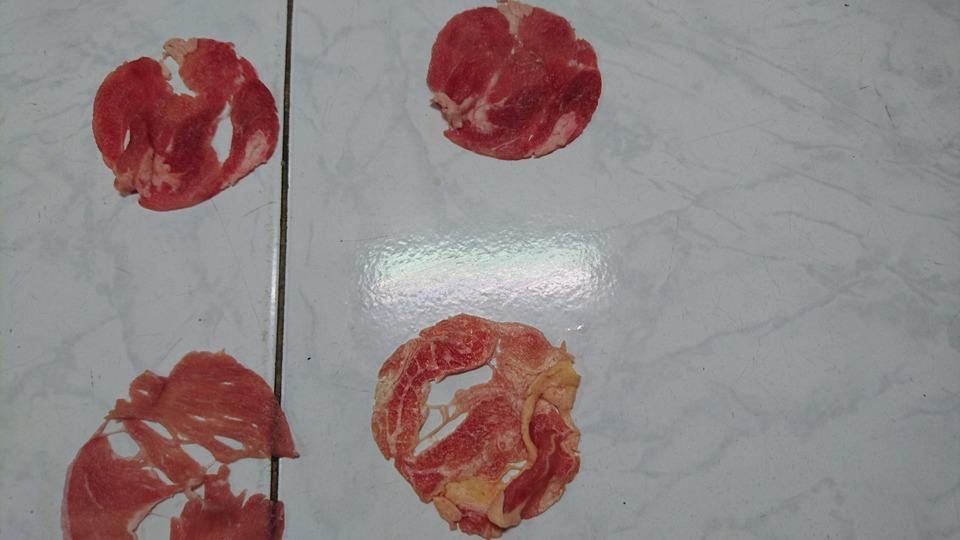restructured meat: (51, 355, 316, 535), (366, 313, 593, 521), (94, 54, 292, 211), (426, 17, 616, 167)
